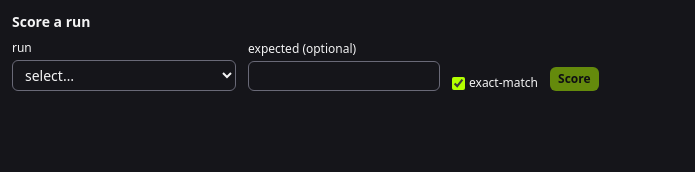
Test: ScoreRunPanel: reseed vs. user-touched selection › "Score" is disabled with a hint when no scorer is selected, even with a run chosen
Click the checkbox labelled "exact-match" at (458, 83), box [452, 76, 465, 90]
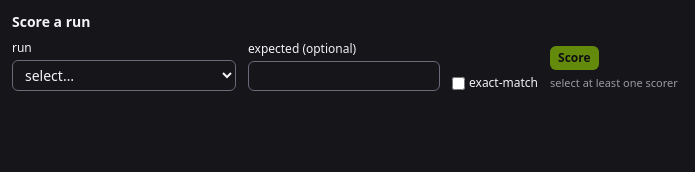
Check: the button "Score" is disabled, box [550, 46, 598, 70]
Check: the checkbox labelled "exact-match" is not checked, box [452, 76, 465, 90]
Check: the text "select at least one scorer" is shown, box [550, 74, 678, 91]
